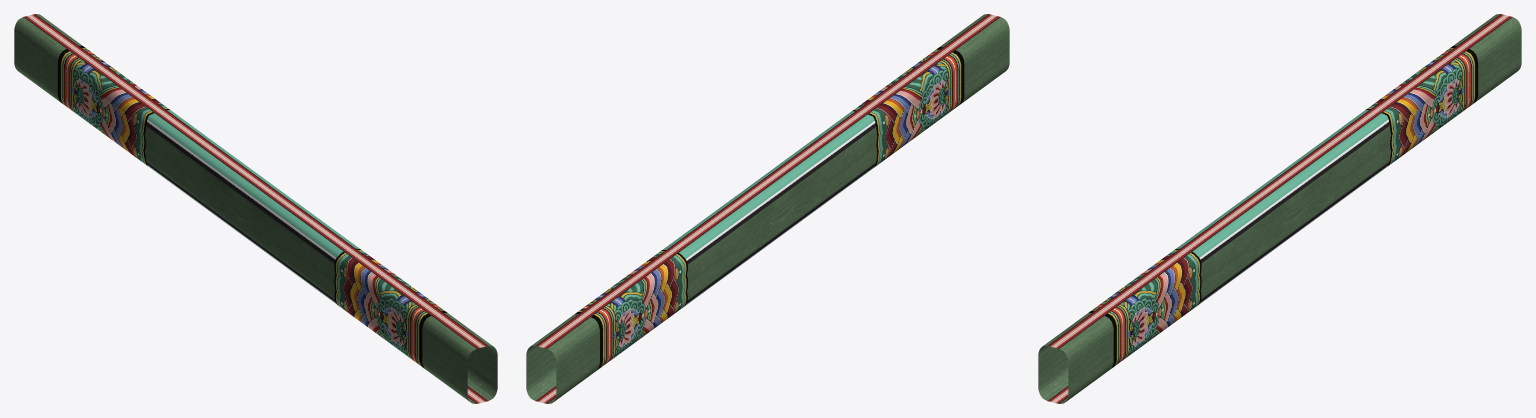
The model's file is SM_CrossBeam08Y.fbx.
3 renders of one model, left to right at view 1: azimuth 30°, elevation 25°; view 2: azimuth 150°, elevation 25°; view 3: azimuth 330°, elevation 25°, orthographic.
Visible parts, largest first — view 1: SM_CrossBeam08Y; view 2: SM_CrossBeam08Y; view 3: SM_CrossBeam08Y.
Boxes of the visible parts, bbox=[...] form: SM_CrossBeam08Y: bbox=[14, 14, 497, 403]; SM_CrossBeam08Y: bbox=[526, 14, 1009, 403]; SM_CrossBeam08Y: bbox=[1038, 14, 1521, 403].
Bounding box in the file's own units: 16.7 × 435 × 29.22.
Materials: 1 (1 with a texture image).
